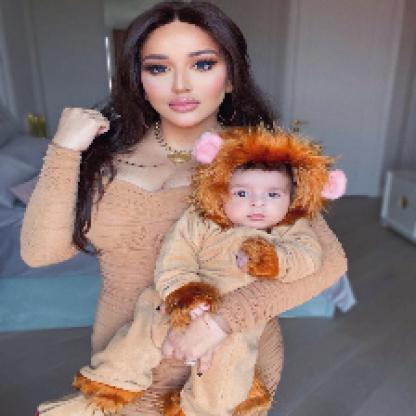child: (35, 126, 351, 416)
